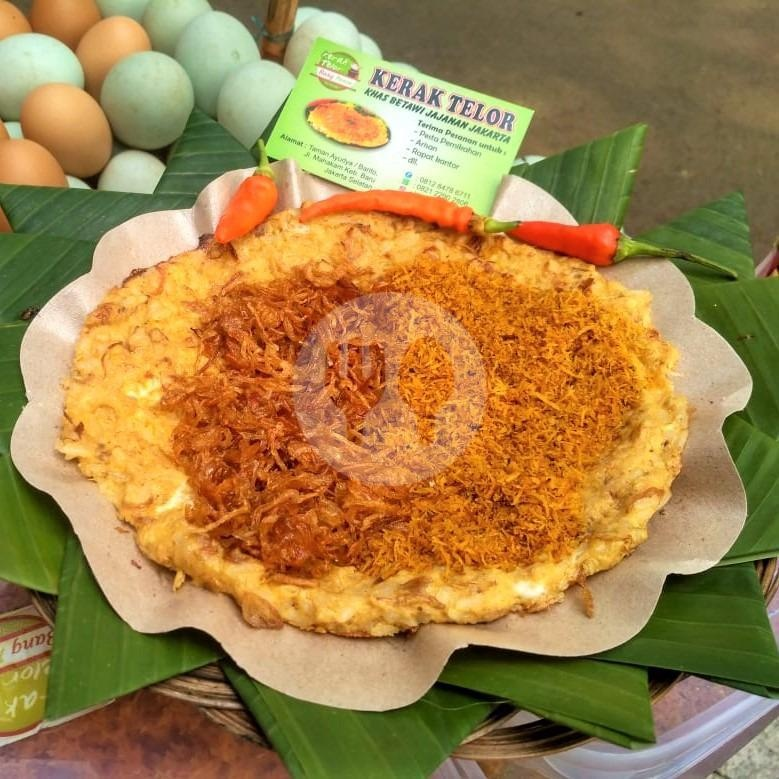kerak_telor: (48, 225, 687, 639)
